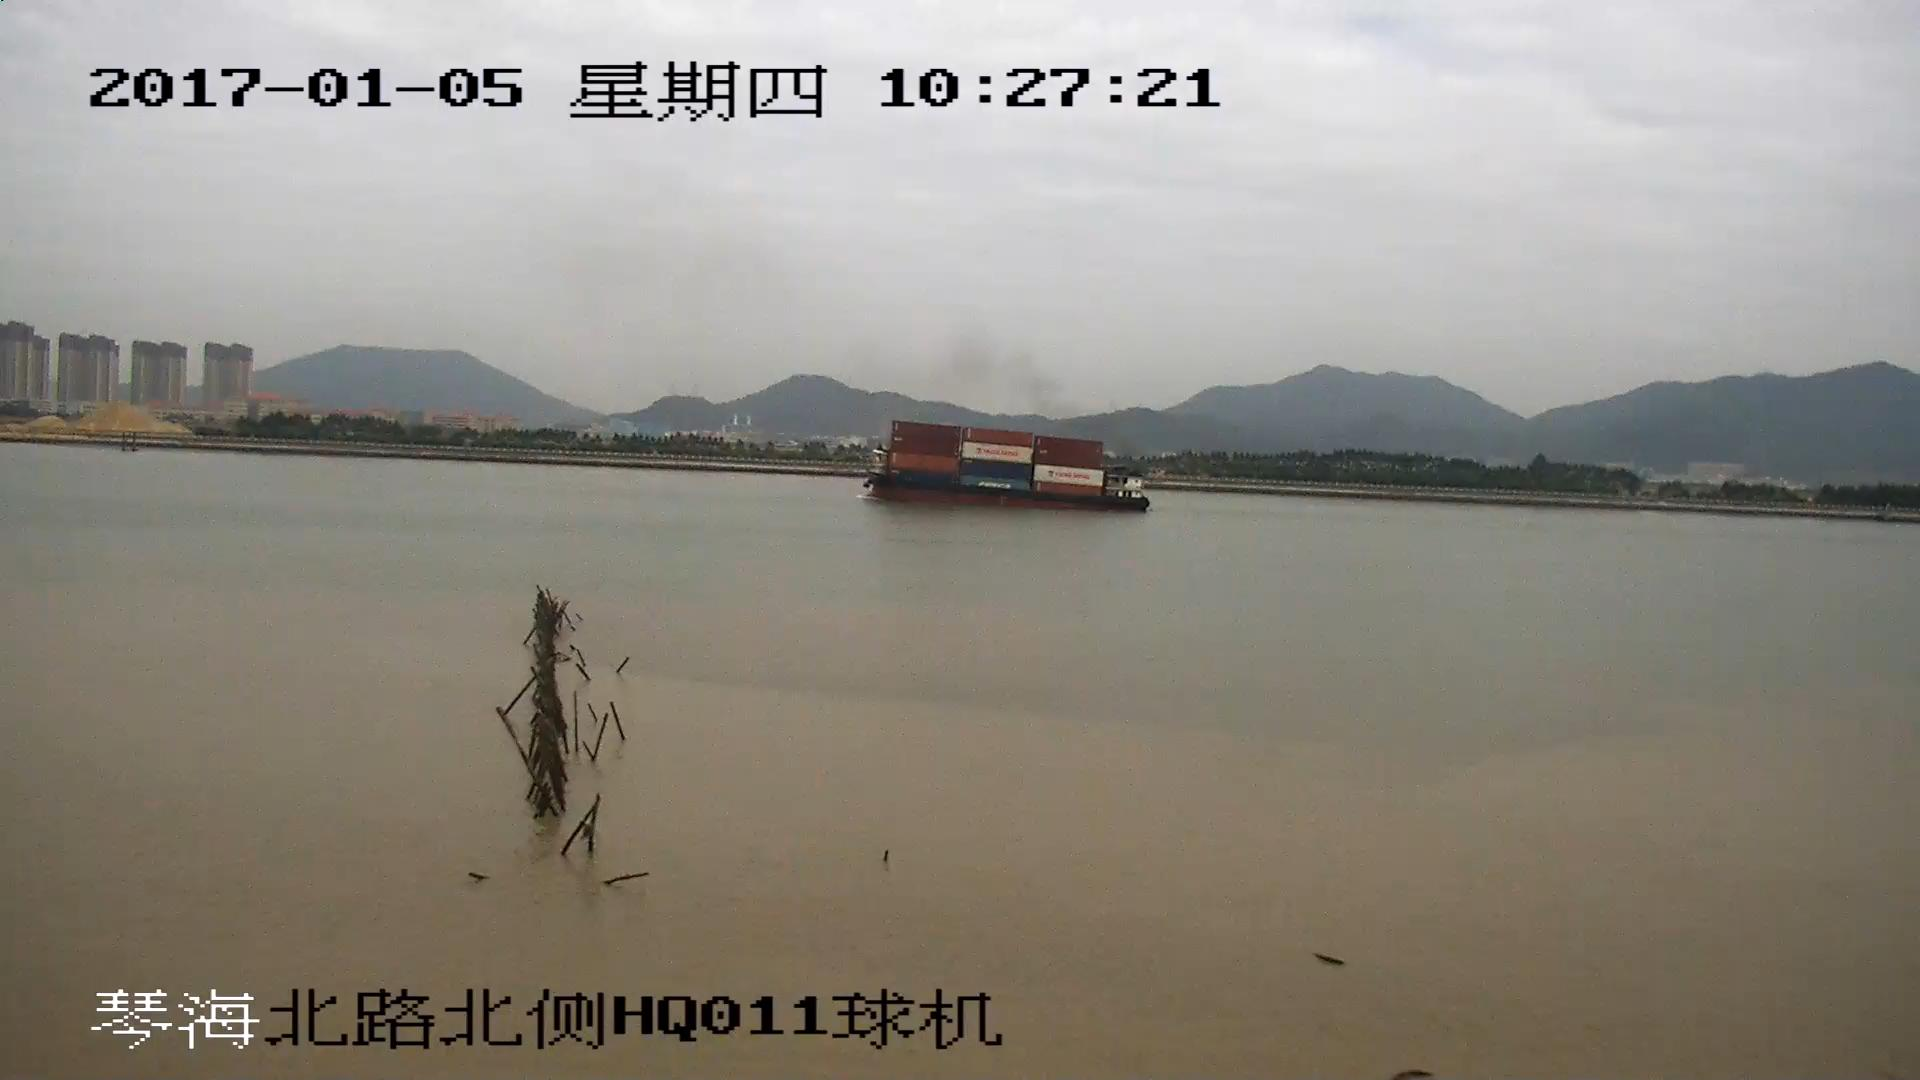container ship: (859, 423, 1148, 511)
